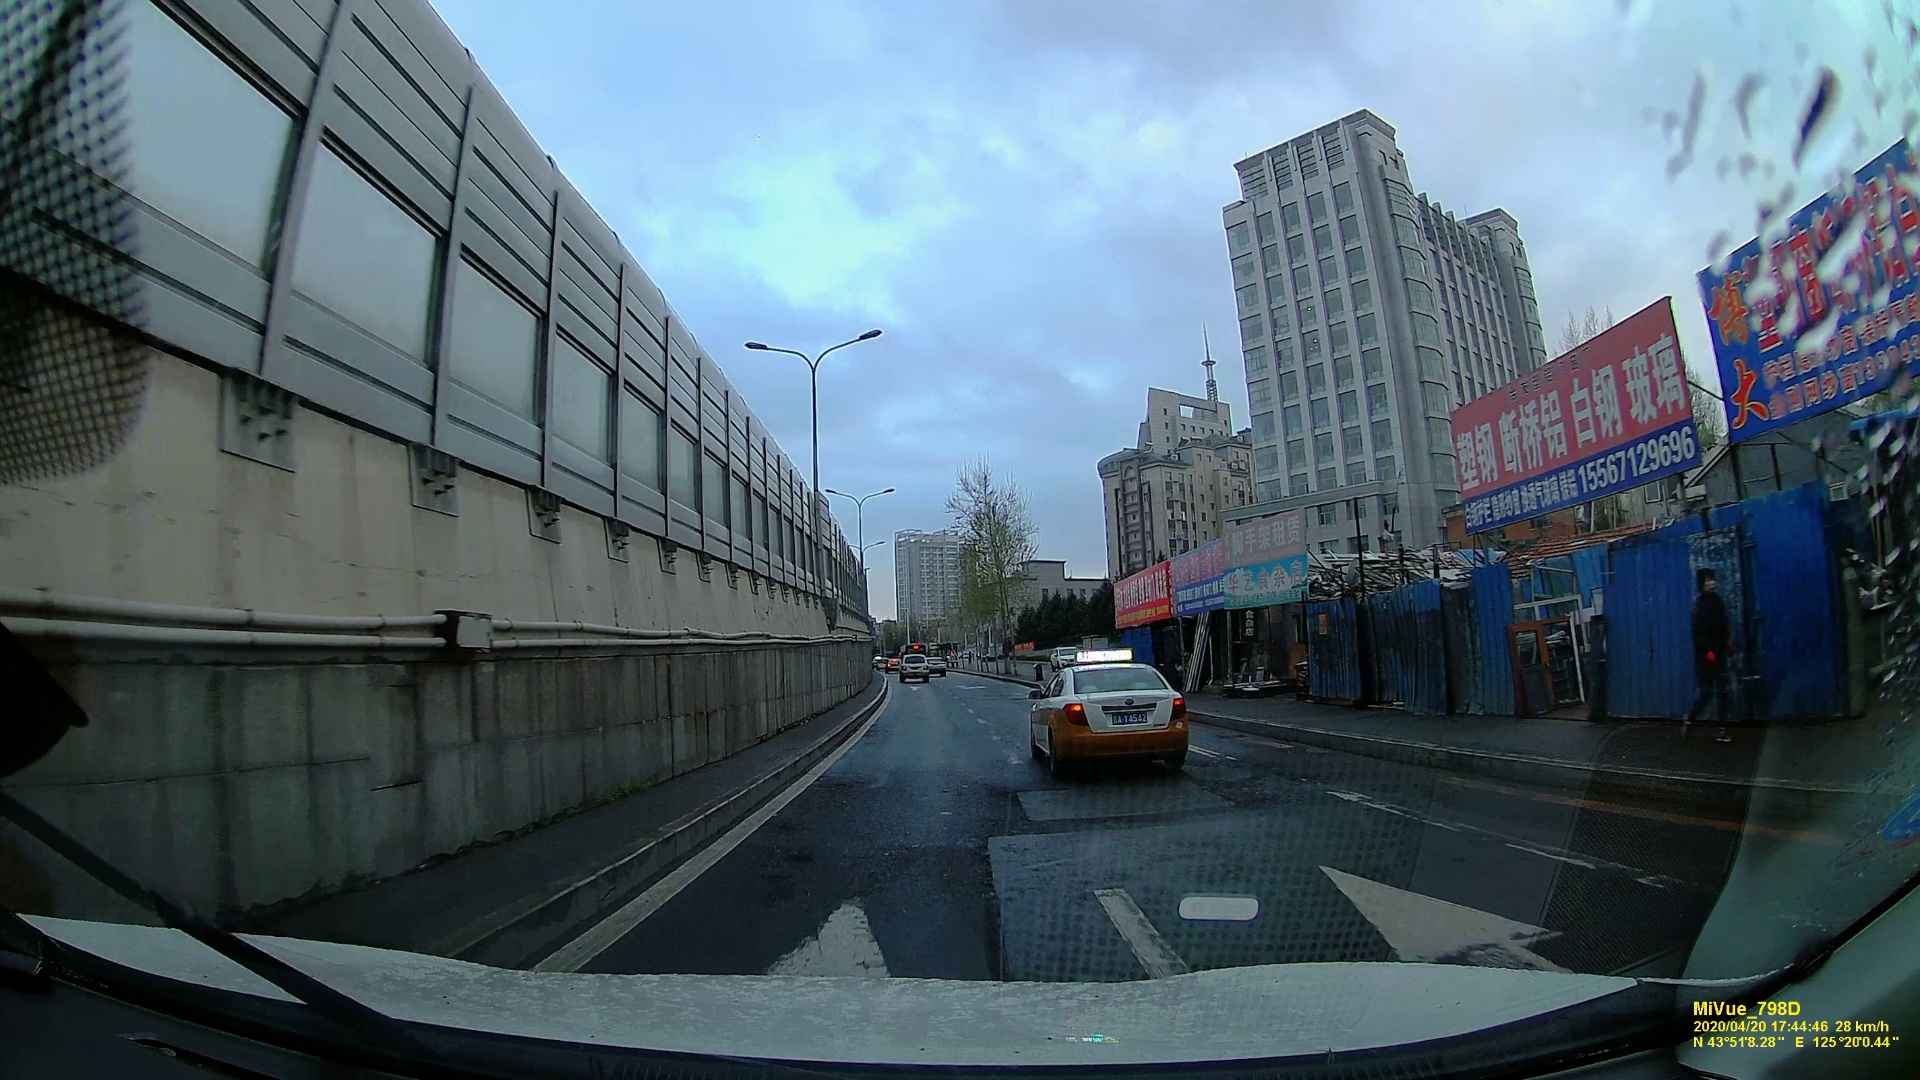person: (1684, 565, 1745, 745)
vehicle: (1028, 662, 1190, 778), (896, 653, 931, 684)
